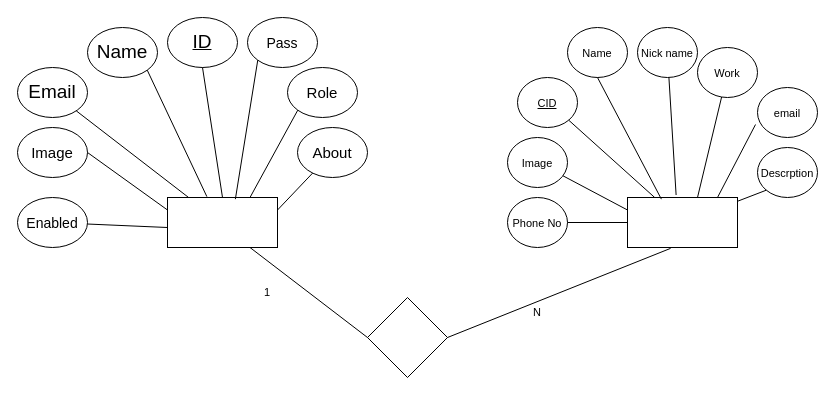
The diagram is 835 pixels wide and 395 high, and some of its shapes have lost their labels. The shapes that lost their labels are listed below. From the top down, each one's centre as x and y in pixels, then its label:
At (222,222): "USER".
At (682,222): "CONTACT".
